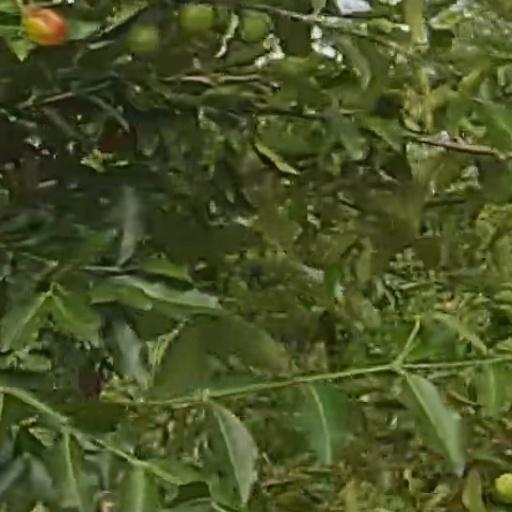acerola: (28, 10, 65, 45)
